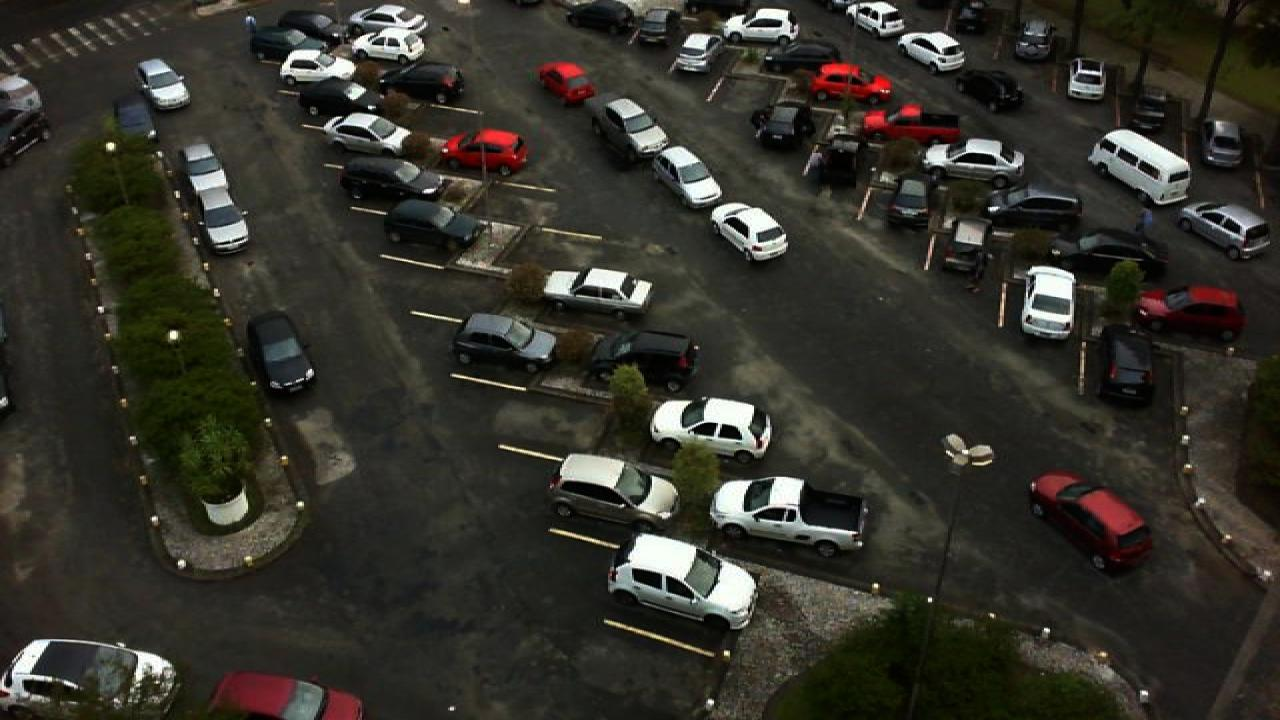Car: (606, 532, 760, 631), (0, 638, 180, 720), (1028, 471, 1156, 575), (708, 474, 870, 556), (548, 452, 684, 532), (646, 396, 778, 465), (1086, 128, 1194, 206), (206, 669, 368, 720), (588, 330, 700, 393), (1134, 284, 1248, 344), (452, 312, 558, 376), (538, 266, 654, 322), (382, 197, 484, 260), (246, 310, 318, 396), (1178, 203, 1272, 261), (590, 97, 670, 163), (338, 156, 440, 206), (706, 202, 790, 262), (922, 138, 1024, 187), (650, 144, 724, 210), (320, 112, 426, 158), (1016, 264, 1078, 342), (1074, 231, 1172, 279), (862, 103, 966, 148), (1100, 330, 1160, 407), (436, 128, 528, 174), (982, 188, 1084, 229), (376, 61, 466, 106), (192, 192, 252, 255), (292, 76, 386, 116), (806, 62, 894, 103), (276, 48, 366, 88), (244, 24, 328, 65), (940, 217, 996, 278), (134, 57, 192, 114), (896, 29, 968, 74), (180, 140, 232, 202), (750, 99, 810, 152), (956, 68, 1026, 112), (722, 7, 800, 44), (348, 30, 428, 66), (1196, 118, 1250, 170), (348, 3, 432, 36), (110, 93, 162, 146), (840, 0, 910, 39), (816, 136, 864, 191), (536, 60, 596, 104), (760, 41, 842, 73), (888, 178, 936, 232), (562, 0, 634, 35), (670, 30, 726, 74), (272, 9, 346, 39), (1064, 56, 1110, 102), (1012, 18, 1058, 62), (632, 7, 680, 46)
